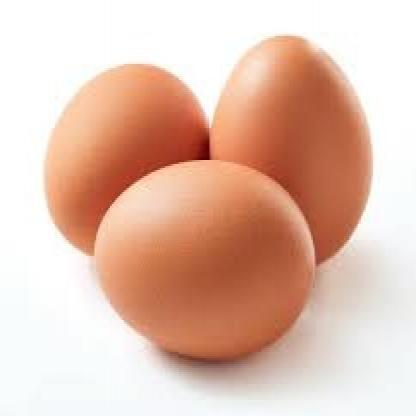egg: (90, 158, 320, 366), (212, 34, 375, 270), (41, 61, 212, 258)
